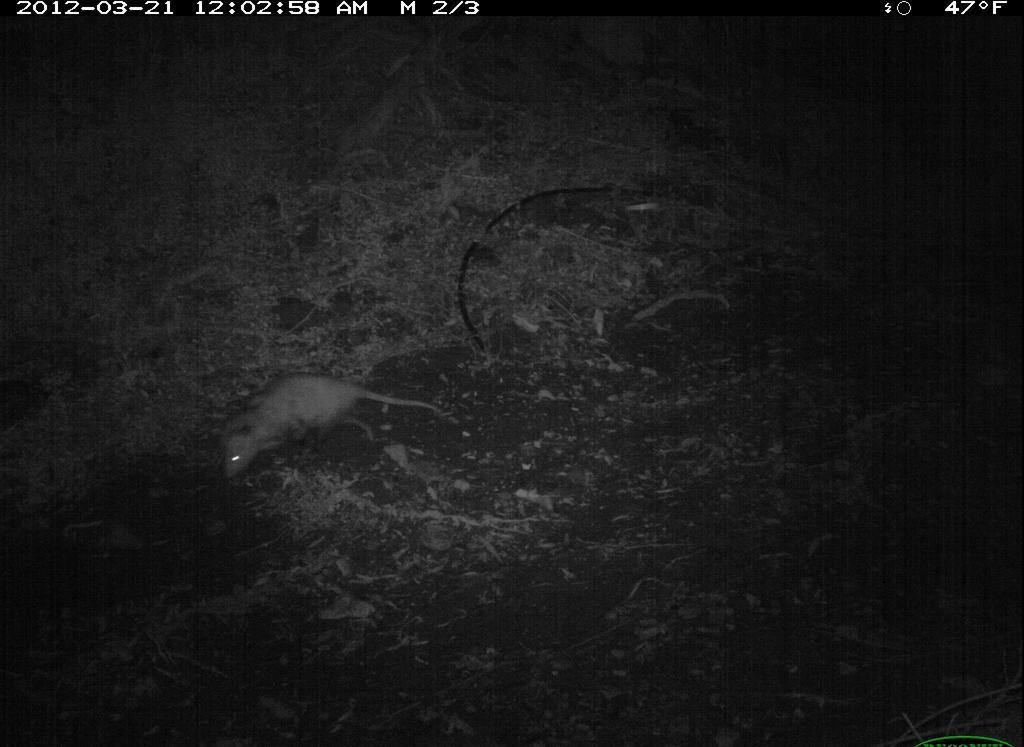opossum: (213, 367, 455, 484)
